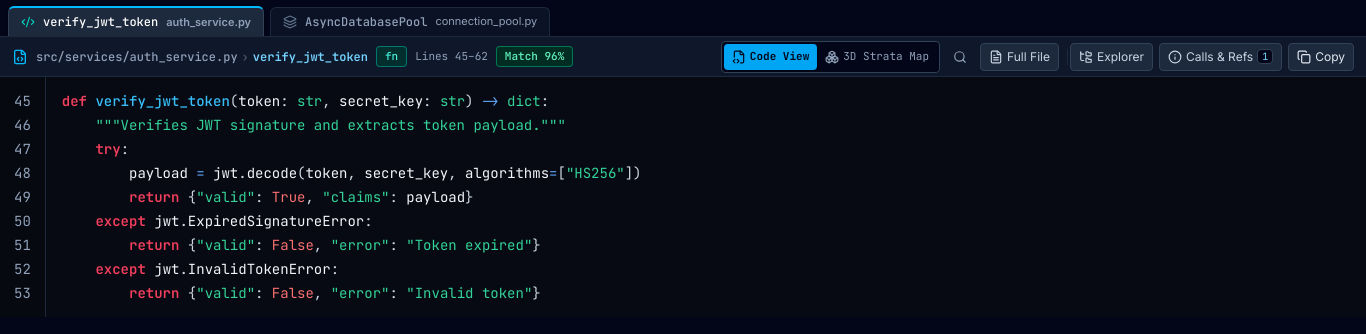
Scenario: CodeViewerPane & Syntax Highlighting Suite › displays "1 match" for singular match and "0 matches" for non-matching search
Click the button with test id "open-code-search-btn" at (960, 56), box [946, 42, 974, 70]
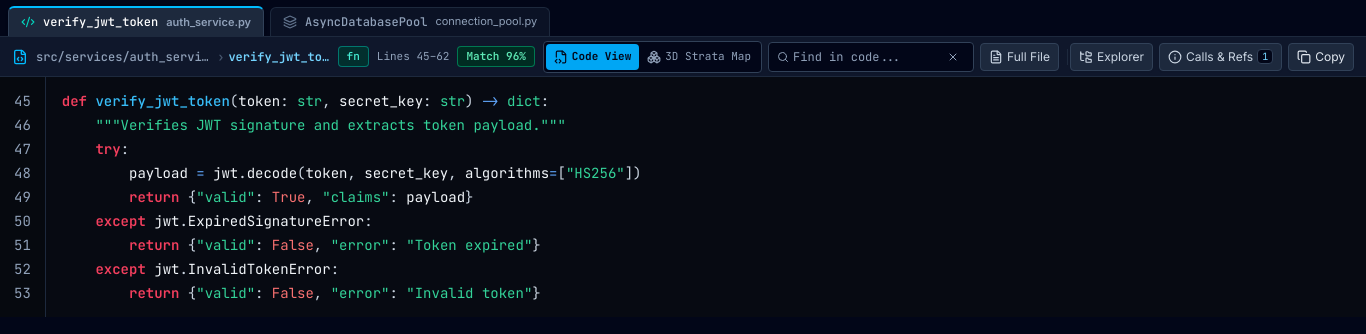
# Singular match
Type "verify" into the field with test id "code-search-input" at (865, 56), box [793, 48, 937, 64]
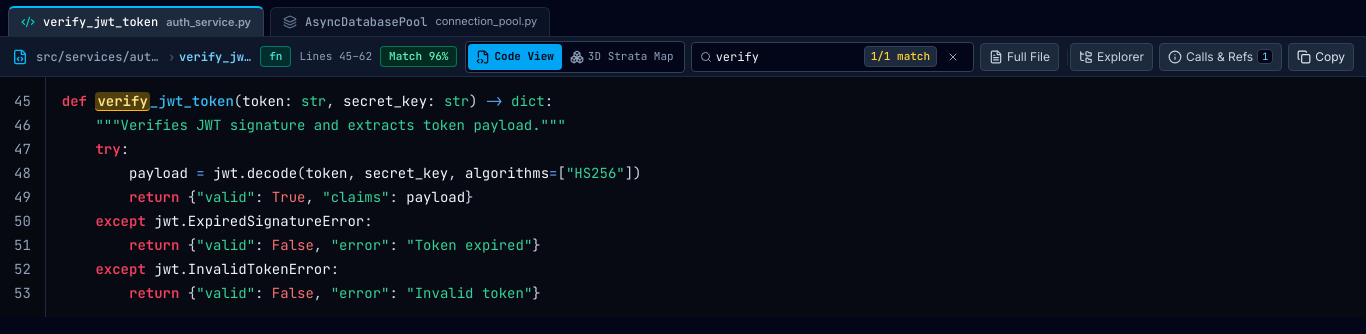
Check: the text with test id "search-match-count" shows "1 match", box [871, 49, 930, 63]
# Clear and type non-matching term
Clear the field with test id "code-search-input" at (788, 56), box [716, 48, 860, 64]
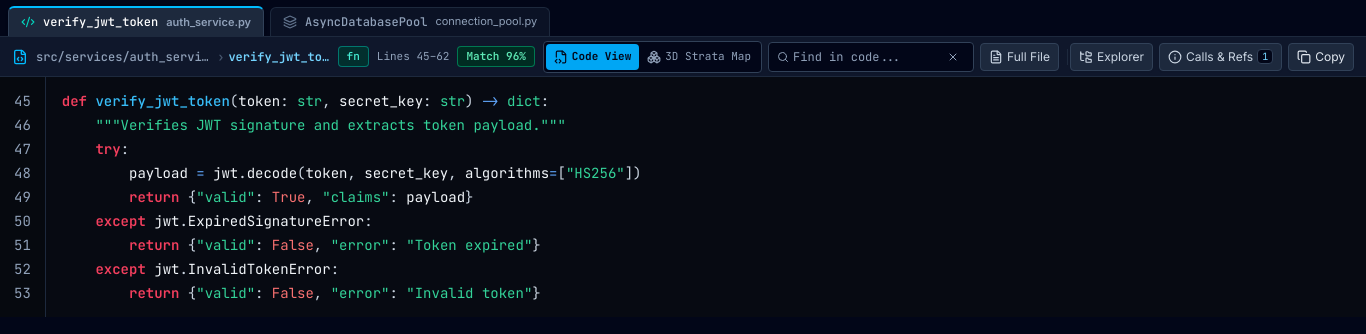
Type "nonexistent_symbol_123" into the field with test id "code-search-input" at (865, 56), box [793, 48, 937, 64]
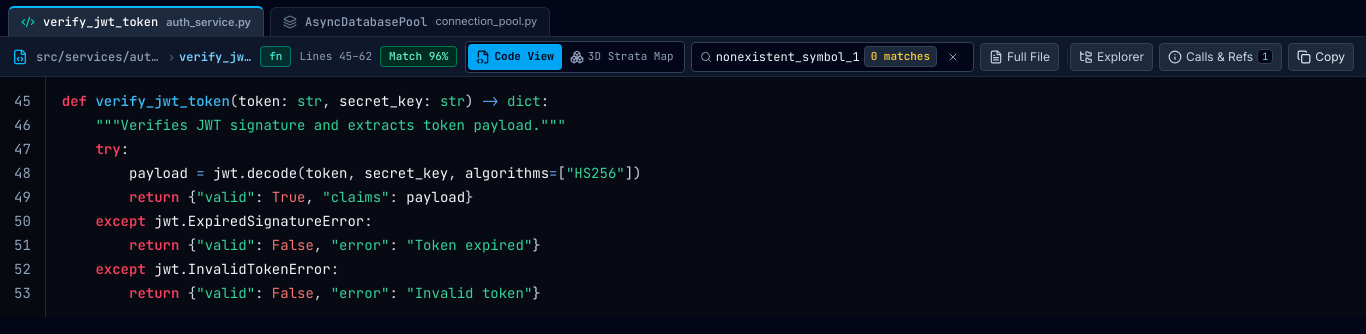
Check: the text with test id "search-match-count" reads "0 matches", box [871, 49, 930, 63]
